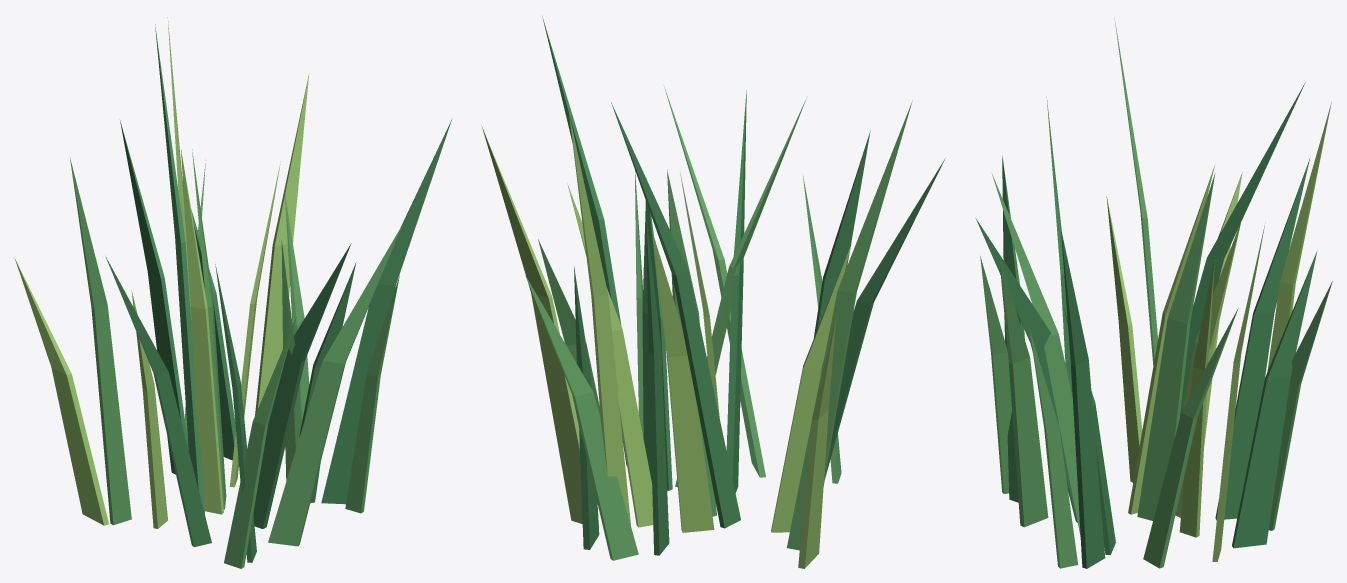
The model's file is grass_tuft_a.glb.
3 views of the same model, side by side, from view 1: azimuth 30°, elevation 25°; view 2: azimuth 150°, elevation 25°; view 3: azimuth 270°, elevation 25° (orthographic). The views are drawn at different scales.
Parts seen in each view (by area): view 1: Tuft_1, Tuft_2, Tuft_3; view 2: Tuft_3, Tuft_1, Tuft_2; view 3: Tuft_2, Tuft_1, Tuft_3.
Part boxes in pixels (left/top/right/bottom): Tuft_1: left=105, top=24, right=452, bottom=562; Tuft_2: left=70, top=149, right=403, bottom=568; Tuft_3: left=14, top=17, right=309, bottom=528; Tuft_3: left=482, top=113, right=851, bottom=568; Tuft_1: left=542, top=16, right=945, bottom=555; Tuft_2: left=525, top=86, right=912, bottom=560; Tuft_2: left=980, top=19, right=1332, bottom=568; Tuft_1: left=975, top=82, right=1317, bottom=568; Tuft_3: left=1106, top=101, right=1331, bottom=561.
Bounding box in the file's own units: 0.985 × 1.12 × 0.8216.
